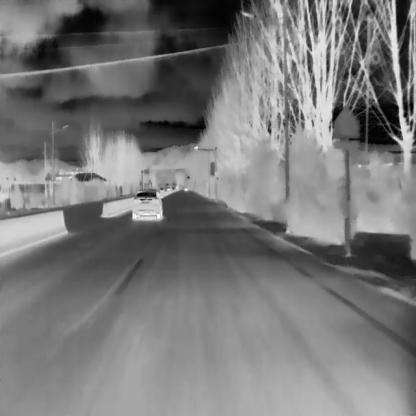car: (132, 188, 162, 218)
